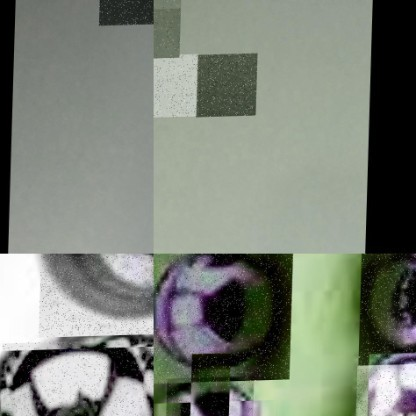ironball: (153, 253, 294, 384), (0, 340, 153, 415), (39, 253, 153, 338), (359, 253, 415, 367), (195, 54, 257, 118), (167, 377, 255, 415), (357, 365, 415, 415), (153, 54, 197, 118), (153, 0, 180, 60), (98, 0, 153, 26)
